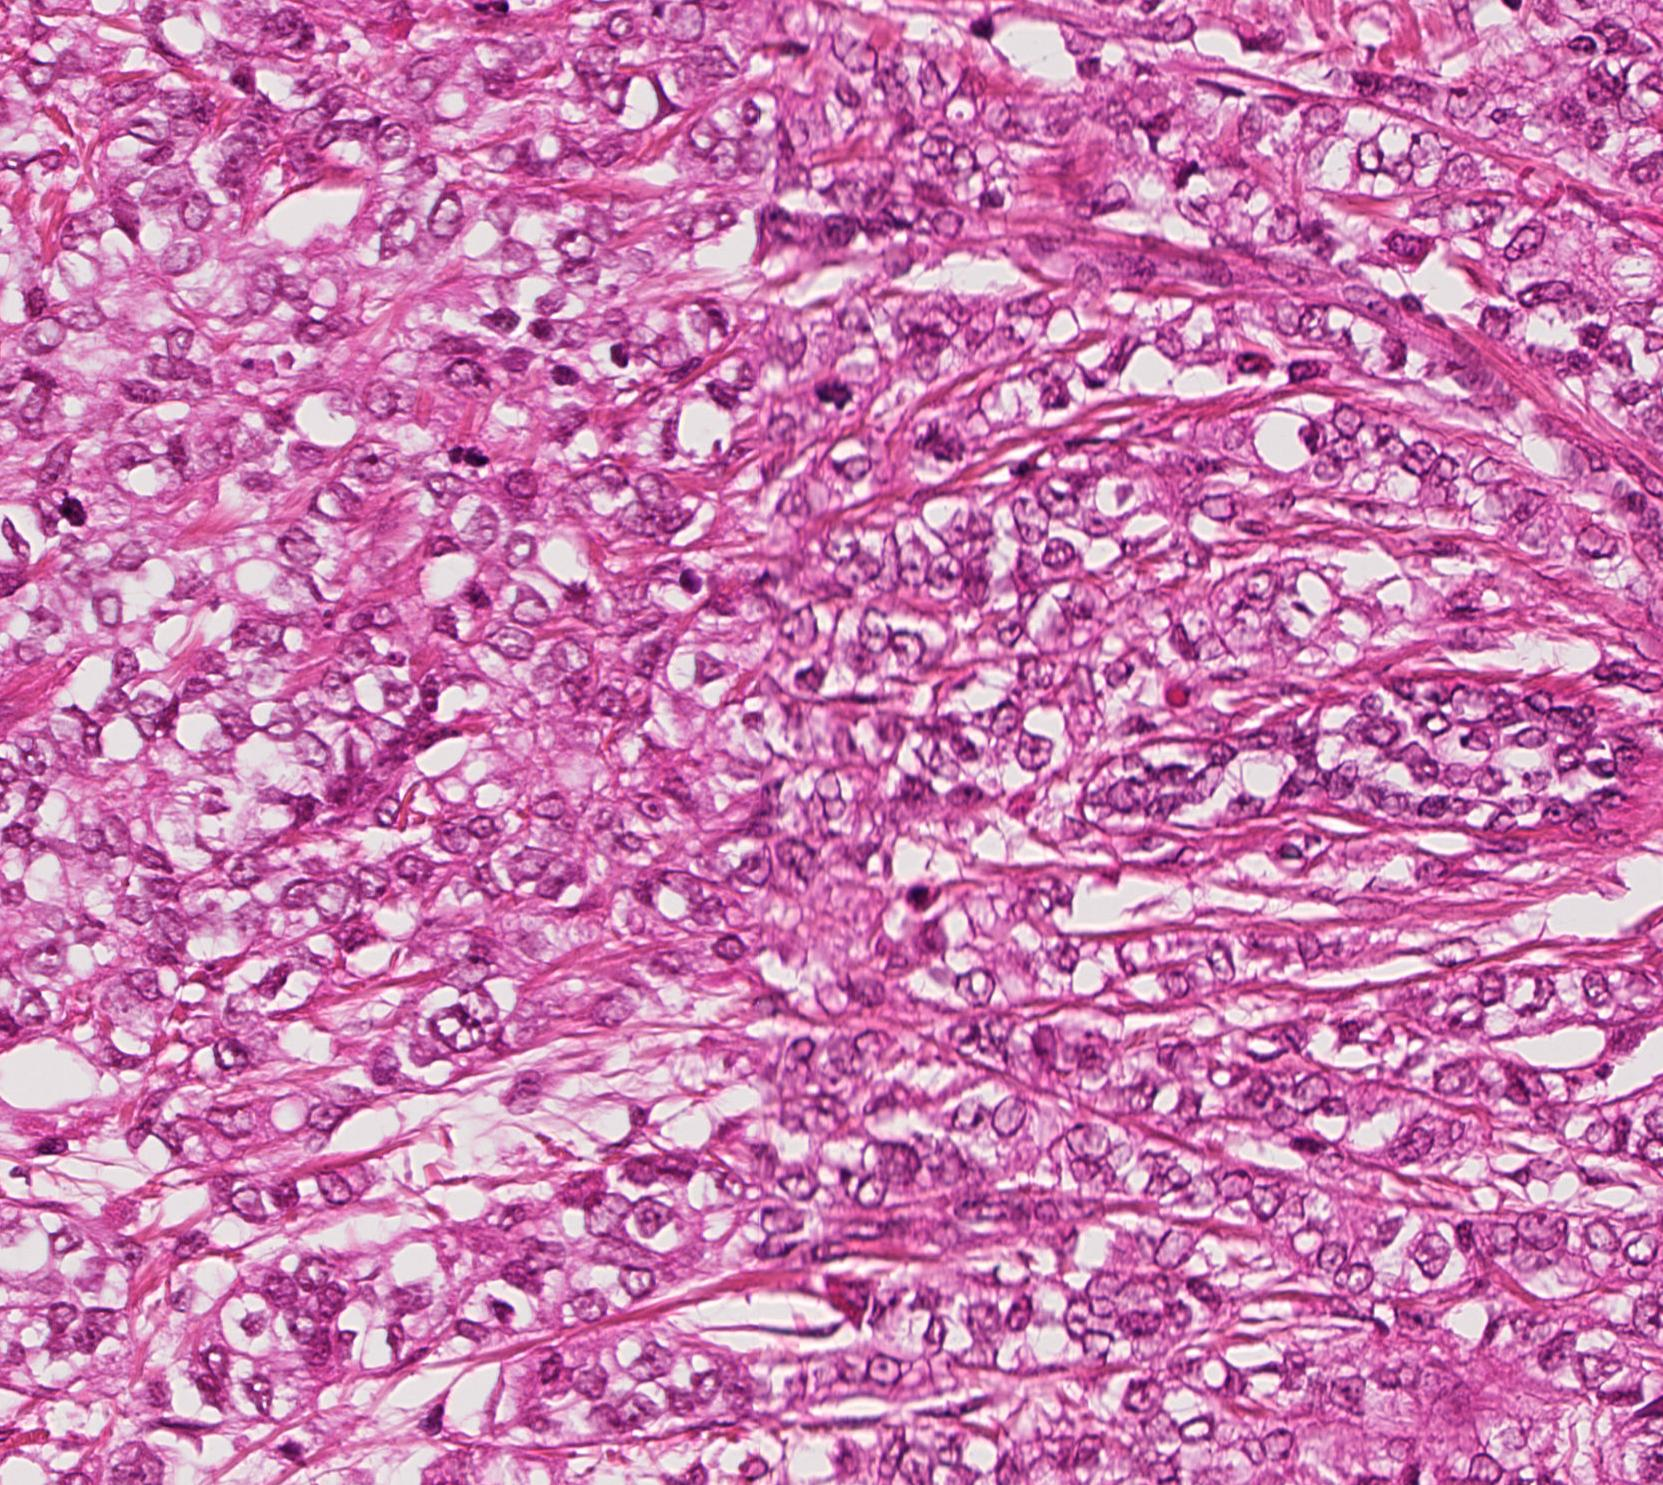mitosis: (794, 361, 854, 421)
